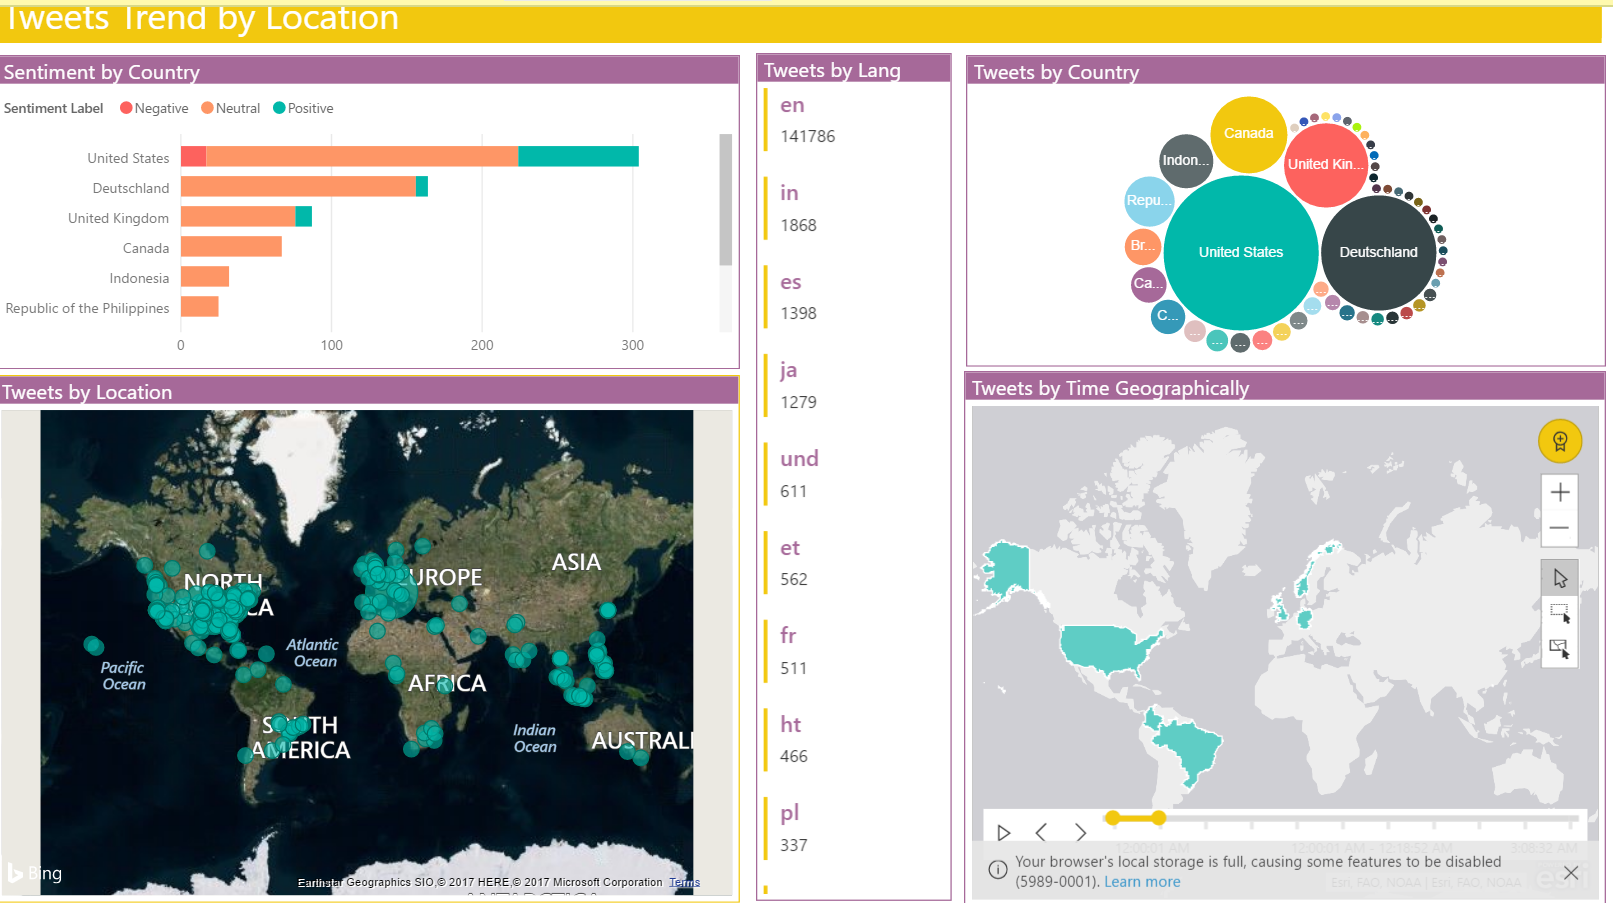

The page's visual inventory and layout, read from the dashboard file:
{"tool":"powerbi","page":{"name":"Location Trends","canvas":[1280,720],"ordinal":2},"visuals":[{"type":"multiRowCard","fields":{"Values":["all_data3.lang","CountNonNull(all_data3.created_at)"]},"box":[607.1,48.6,153.7,665.1],"z":1},{"type":"esriVisual","fields":{"Size":["CountNonNull(all_data3.created_at)"],"Time":["all_data3.Time"],"Location":["all_data3.place_country_code"]},"box":[770.2,298,503.5,420.4],"z":2},{"type":"map","fields":{"Category":["all_data3.place_full_name","all_data3.place_coordinates","all_data3.place_country_code","all_data3.place_country","all_data3.place_name"],"Size":["CountNonNull(all_data3.created_at)"]},"box":[9.4,301.2,585.1,414.1],"z":3},{"type":"bubbleChartEEDCDFA388784AEEAB47972BC1626196","fields":{"category":["all_data3.place_country"],"measure":["CountNonNull(all_data3.created_at)"]},"box":[771.8,50.2,502,244.7],"z":4},{"type":"barChart","fields":{"Category":["all_data3.place_country"],"Y":["CountNonNull(all_data3.created_at)"],"Series":["all_data3.Sentiment Label"]},"box":[11,50.2,583.5,246.3],"z":5},{"type":"textbox","box":[11,0,1259.6,40.8],"z":6}]}

Visuals, with their boxes in screenshot pixels (x1, y1, x2, y2), scaled from the page's 1280x720 canvas onto the 1613x903 screenshot:
multiRowCard - all_data3.lang x CountNonNull(all_data3.created_at): [765,61,959,895]
esriVisual - CountNonNull(all_data3.created_at) x all_data3.Time: [971,374,1605,901]
map - all_data3.place_full_name x all_data3.place_coordinates: [12,378,749,897]
bubbleChartEEDCDFA388784AEEAB47972BC1626196 - all_data3.place_country x CountNonNull(all_data3.created_at): [973,63,1605,370]
barChart - all_data3.place_country x CountNonNull(all_data3.created_at): [14,63,749,372]
textbox: [14,0,1601,51]
